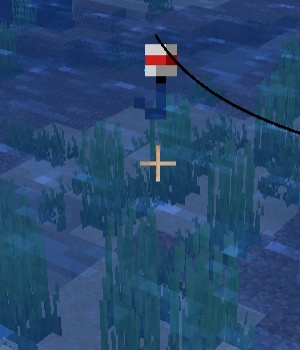up: (133, 38, 182, 123)
